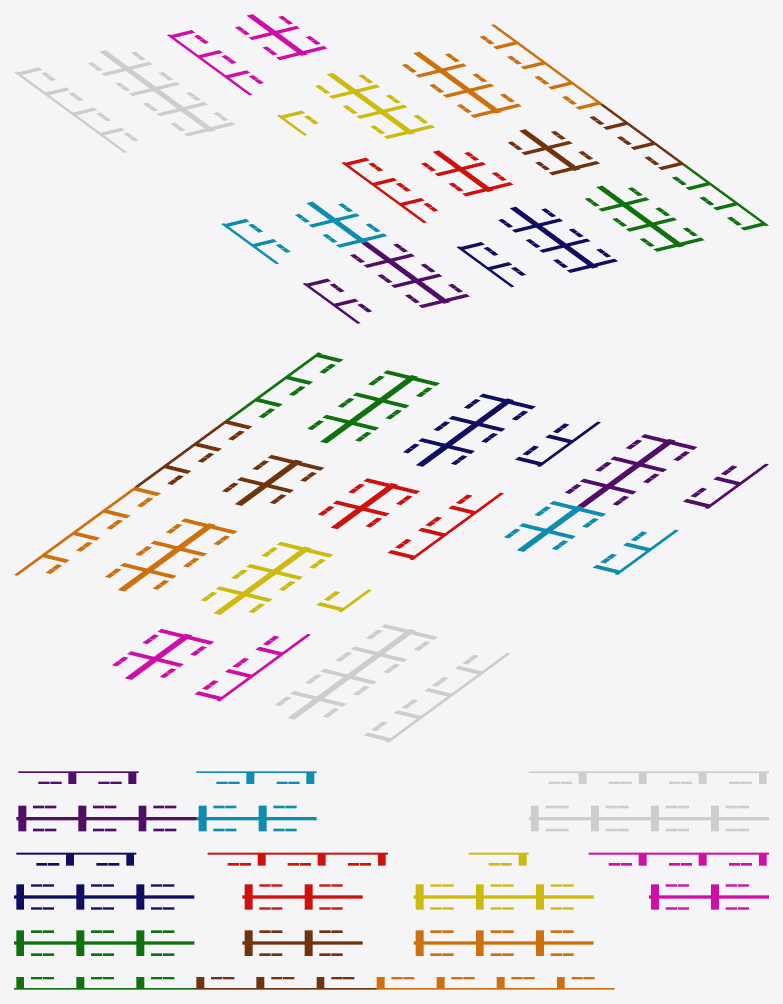
The model's file is MinimapMesh_Detailed.glb.
3 renders of one model, top to bottom at view 1: azimuth 30°, elevation 25°; view 2: azimuth 150°, elevation 25°; view 3: azimuth 270°, elevation 25°, orthographic. The views are drawn at different scales.
Parts seen in each view (by area): view 1: Info1_Semiconductor.013, Info1_Semiconductor.006, Info1_Semiconductor.008, Info1_Semiconductor.004, Info1_Semiconductor.012, Info1_Semiconductor.009, Info1_Semiconductor.007, Info1_Semiconductor.011, Info1_Semiconductor.010, Info1_Semiconductor.014; view 2: Info1_Semiconductor.013, Info1_Semiconductor.006, Info1_Semiconductor.008, Info1_Semiconductor.004, Info1_Semiconductor.012, Info1_Semiconductor.007, Info1_Semiconductor.009, Info1_Semiconductor.011, Info1_Semiconductor.010, Info1_Semiconductor.014; view 3: Info1_Semiconductor.013, Info1_Semiconductor.006, Info1_Semiconductor.008, Info1_Semiconductor.004, Info1_Semiconductor.012, Info1_Semiconductor.011, Info1_Semiconductor.009, Info1_Semiconductor.010, Info1_Semiconductor.007, Info1_Semiconductor.014.
Boxes of the visible parts, x1=… form: Info1_Semiconductor.013: x1=14, y1=50, x2=234, y2=152; Info1_Semiconductor.006: x1=402, y1=24, x2=602, y2=117; Info1_Semiconductor.008: x1=585, y1=164, x2=768, y2=251; Info1_Semiconductor.004: x1=303, y1=242, x2=469, y2=323; Info1_Semiconductor.012: x1=457, y1=206, x2=617, y2=287; Info1_Semiconductor.009: x1=167, y1=14, x2=326, y2=95; Info1_Semiconductor.007: x1=508, y1=104, x2=684, y2=175; Info1_Semiconductor.011: x1=341, y1=150, x2=513, y2=222; Info1_Semiconductor.010: x1=277, y1=73, x2=434, y2=138; Info1_Semiconductor.014: x1=221, y1=201, x2=386, y2=263; Info1_Semiconductor.013: x1=275, y1=624, x2=509, y2=742; Info1_Semiconductor.006: x1=14, y1=486, x2=237, y2=591; Info1_Semiconductor.008: x1=226, y1=352, x2=439, y2=443; Info1_Semiconductor.004: x1=565, y1=434, x2=768, y2=508; Info1_Semiconductor.012: x1=403, y1=393, x2=600, y2=466; Info1_Semiconductor.007: x1=135, y1=420, x2=323, y2=505; Info1_Semiconductor.009: x1=112, y1=629, x2=310, y2=701; Info1_Semiconductor.011: x1=318, y1=478, x2=503, y2=559; Info1_Semiconductor.010: x1=201, y1=541, x2=371, y2=614; Info1_Semiconductor.014: x1=504, y1=501, x2=678, y2=574; Info1_Semiconductor.013: x1=528, y1=771, x2=768, y2=831; Info1_Semiconductor.006: x1=376, y1=930, x2=614, y2=989; Info1_Semiconductor.008: x1=14, y1=930, x2=196, y2=989; Info1_Semiconductor.004: x1=16, y1=771, x2=196, y2=831; Info1_Semiconductor.012: x1=14, y1=852, x2=194, y2=909; Info1_Semiconductor.011: x1=207, y1=852, x2=387, y2=909; Info1_Semiconductor.009: x1=588, y1=852, x2=768, y2=909; Info1_Semiconductor.010: x1=413, y1=852, x2=593, y2=909; Info1_Semiconductor.007: x1=196, y1=930, x2=376, y2=989; Info1_Semiconductor.014: x1=196, y1=771, x2=316, y2=831.
Size of the model in its own units: 47.23 by 5.9e-06 by 69.05.
